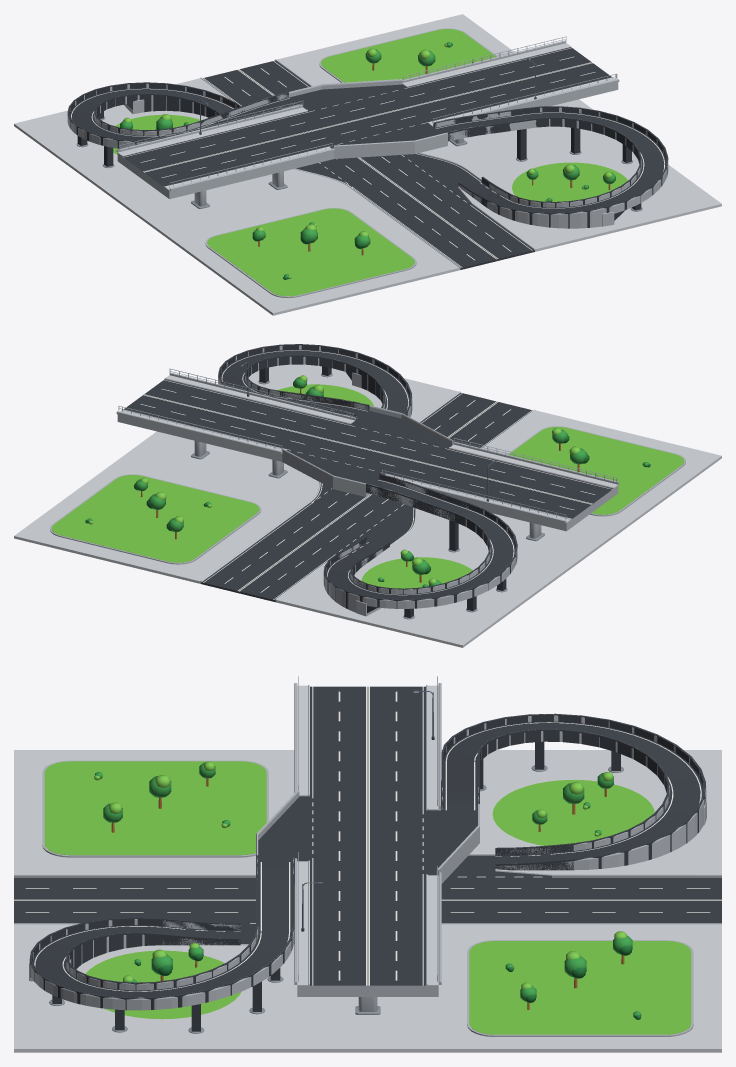
File: trevo.glb
3 renders of one model, top to bottom at view 1: azimuth 30°, elevation 25°; view 2: azimuth 150°, elevation 25°; view 3: azimuth 270°, elevation 25°, orthographic. The views are drawn at different scales.
Parts seen in each view (by area): view 1: trevo, colisao_alca_sudeste, colisao_alca_noroeste; view 2: trevo, colisao_alca_noroeste, colisao_alca_sudeste; view 3: trevo, colisao_alca_noroeste, colisao_alca_sudeste.
Boxes of the visible parts, left/top/right/bottom form: trevo: left=14, top=14, right=721, bottom=315; colisao_alca_sudeste: left=433, top=106, right=668, bottom=228; colisao_alca_noroeste: left=67, top=82, right=302, bottom=166; trevo: left=14, top=345, right=721, bottom=647; colisao_alca_noroeste: left=324, top=473, right=517, bottom=618; colisao_alca_sudeste: left=218, top=344, right=411, bottom=420; trevo: left=14, top=676, right=721, bottom=1052; colisao_alca_noroeste: left=441, top=713, right=705, bottom=870; colisao_alca_sudeste: left=30, top=855, right=294, bottom=1031.
Size of the model in its own units: 75 by 13.58 by 75.
2 materials, 1 textured.
